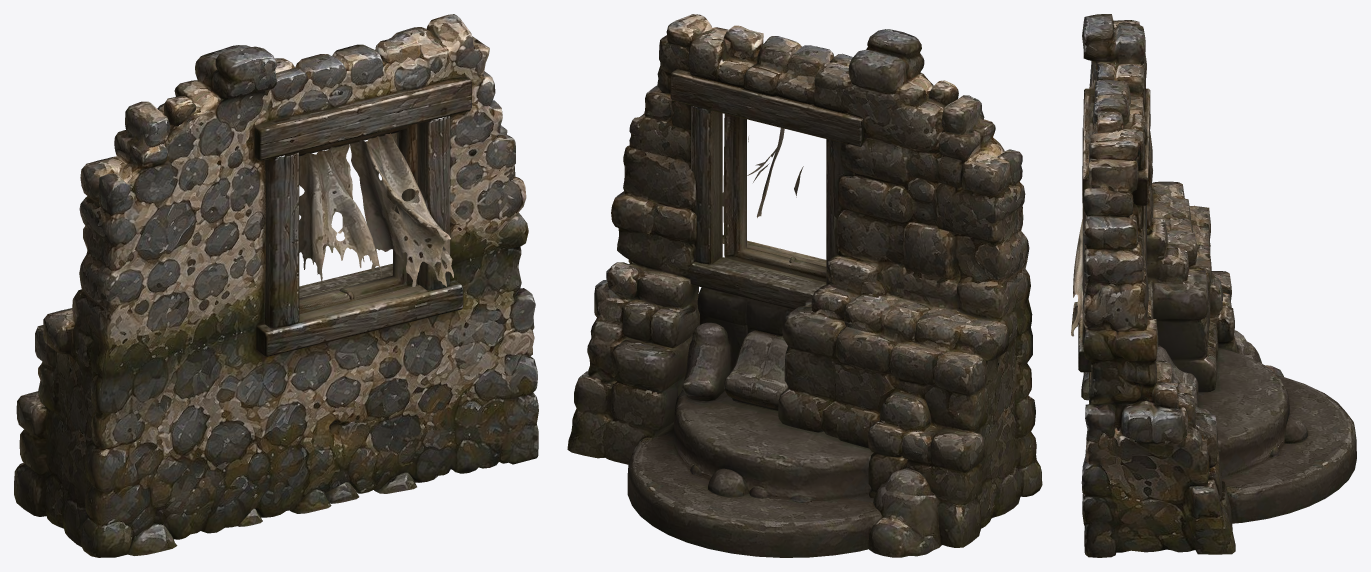
The model's file is act1-a17-5-flooded-lace-window.glb.
3 renders of one model, left to right at view 1: azimuth 30°, elevation 25°; view 2: azimuth 150°, elevation 25°; view 3: azimuth 270°, elevation 25°, orthographic. The views are drawn at different scales.
Parts seen in each view (by area): view 1: act1-a17-5-flooded-lace-window; view 2: act1-a17-5-flooded-lace-window; view 3: act1-a17-5-flooded-lace-window.
Part boxes in pixels (left/top/right/bottom): act1-a17-5-flooded-lace-window: left=14, top=14, right=538, bottom=557; act1-a17-5-flooded-lace-window: left=567, top=14, right=1042, bottom=557; act1-a17-5-flooded-lace-window: left=1071, top=14, right=1356, bottom=557.
Bounding box in the file's own units: 2.2 × 2.22 × 1.39.
1 material, 1 textured.
